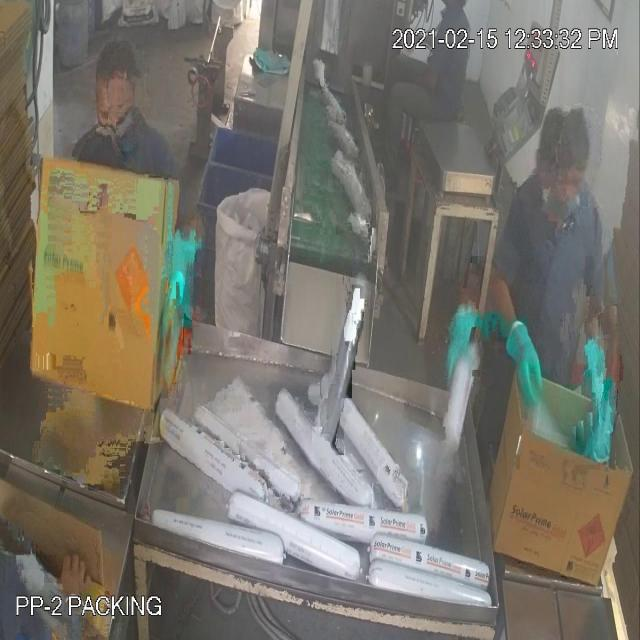Gloves: (44, 36, 527, 364)
